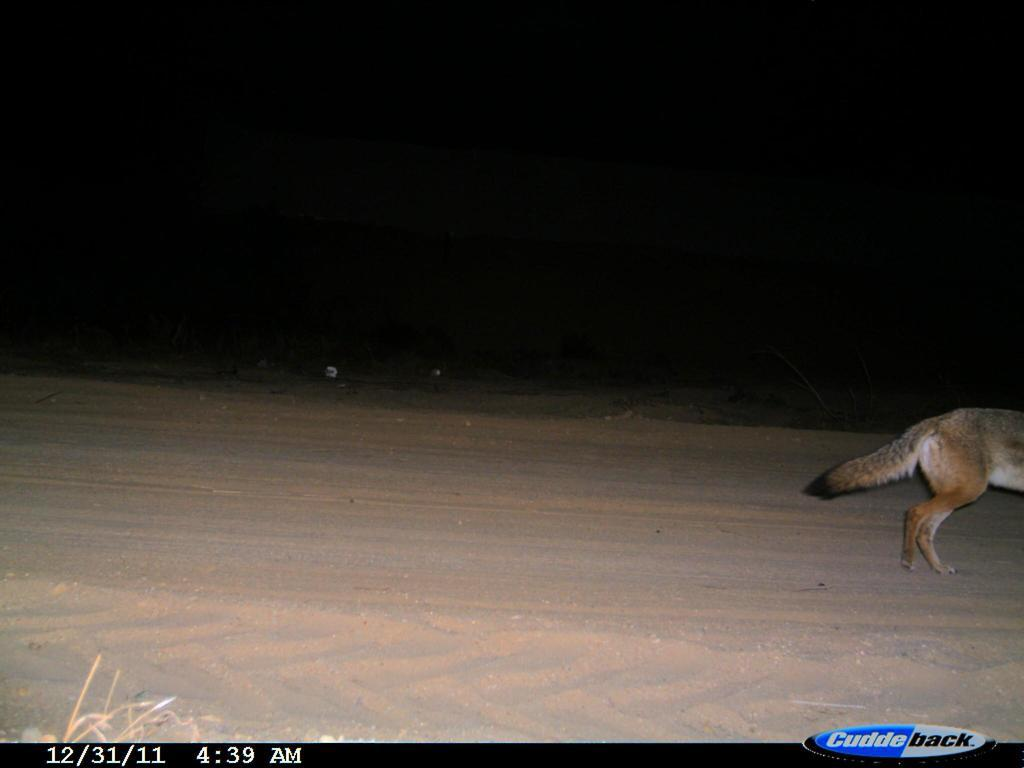coyote: (803, 404, 1023, 584)
